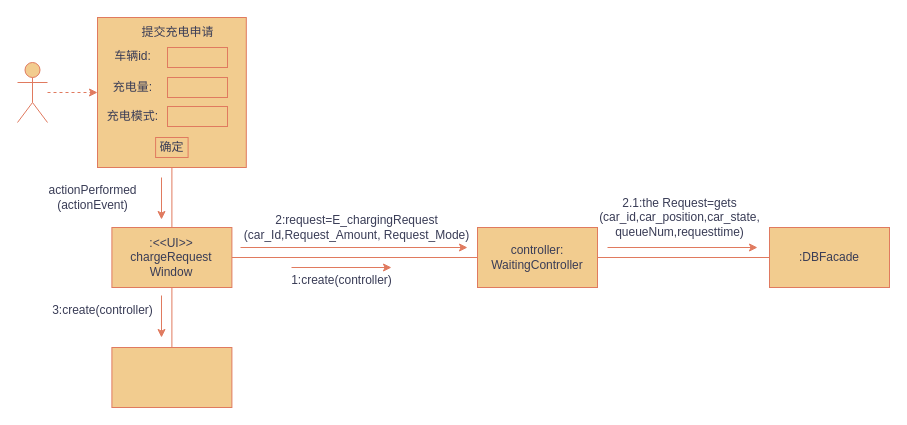
The diagram is 907 pixels wide and 425 high, and some of its shapes have lost their labels. Here are the shapes that lost their labels. From the top down, the box of each, then its label:
(16, 62, 48, 122): Actor
(111, 346, 232, 408): :<<UI>> showRequest Window
